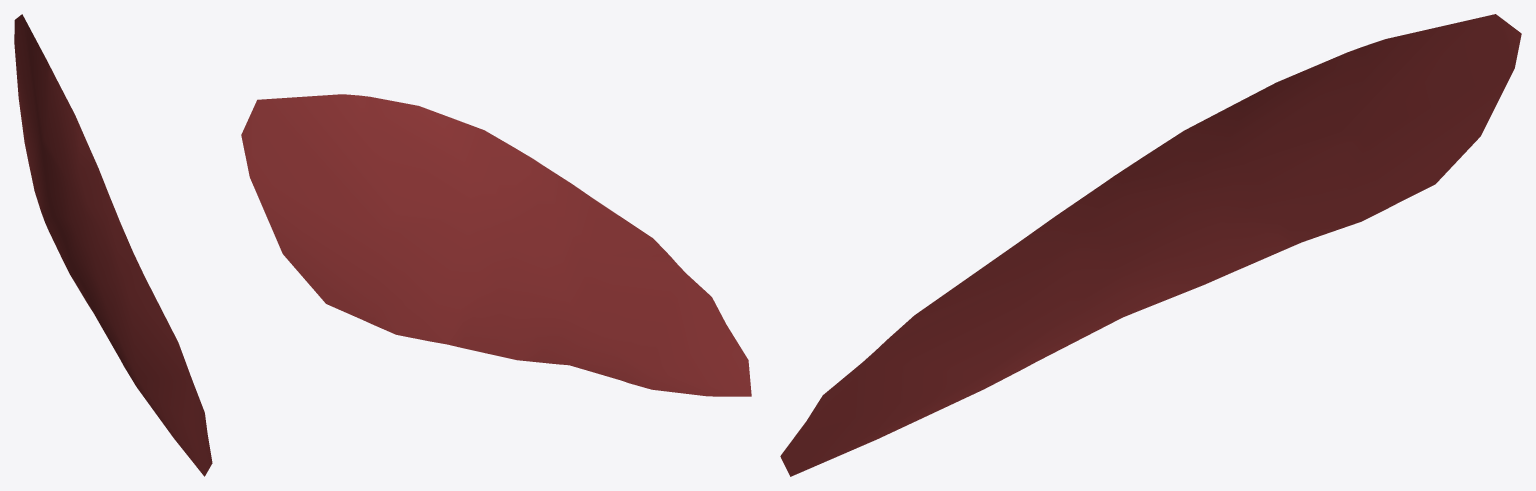
The model's file is serratus-anterior-muscle-e7r.glb.
3 renders of one model, left to right at view 1: azimuth 30°, elevation 25°; view 2: azimuth 150°, elevation 25°; view 3: azimuth 270°, elevation 25°, orthographic. The views are drawn at different scales.
Parts seen in each view (by area): view 1: Serratus anterior muscle.e7r; view 2: Serratus anterior muscle.e7r; view 3: Serratus anterior muscle.e7r.
Boxes of the visible parts, x1,y1,x2,y2 form: Serratus anterior muscle.e7r: [14, 14, 212, 476]; Serratus anterior muscle.e7r: [241, 94, 751, 396]; Serratus anterior muscle.e7r: [780, 14, 1521, 476].
Bounding box in the file's own units: 0.00448 × 0.03 × 0.0412.
